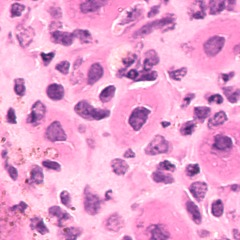New: (180, 15, 240, 74), (110, 88, 165, 149), (20, 108, 83, 156), (198, 120, 240, 192), (62, 1, 141, 29)
